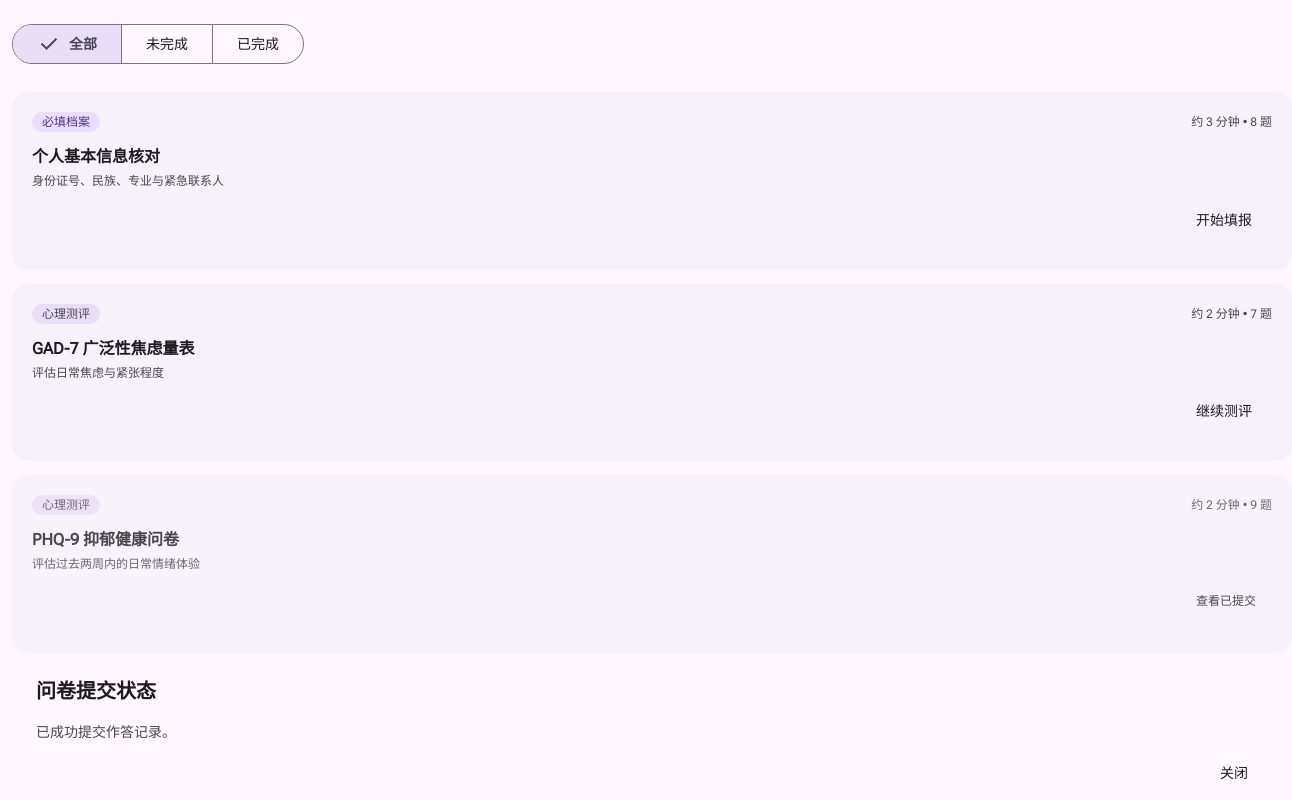
Test: AssessmentsPage › filters list correctly between 全部, 未完成 (NOT_STARTED + IN_PROGRESS), and 已完成 (COMPLETED)
Check: the heading "个人基本信息核对" is shown, box top-left (32, 147), bottom-right (160, 166)
Check: the heading "GAD-7 广泛性焦虑量表" is shown, box top-left (32, 338), bottom-right (194, 358)
Click '未完成': should show NOT_STARTED and IN_PROGRESS, but hide COMPLETED
Click the radio button "未完成".
click(168, 44)  # box top-left (122, 25), bottom-right (213, 63)
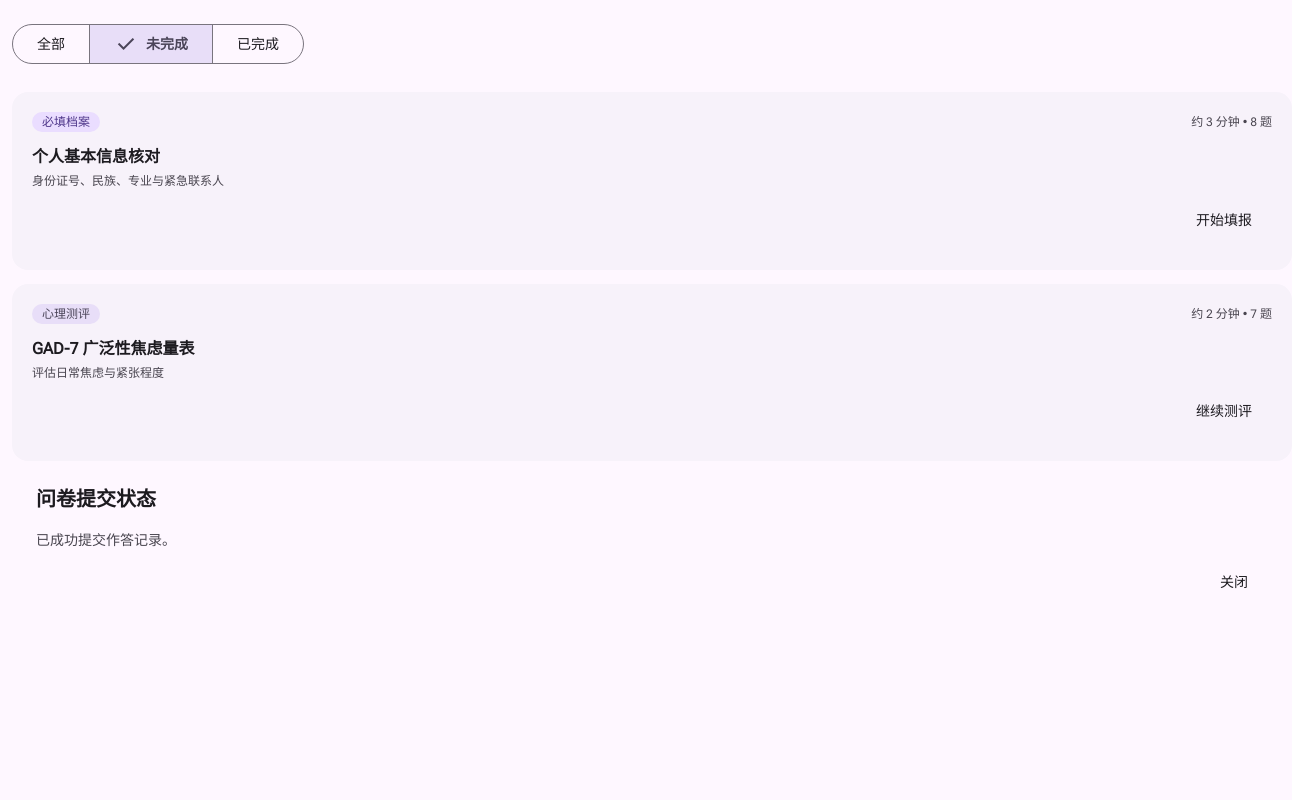
Check: the heading "个人基本信息核对" is shown, box top-left (32, 147), bottom-right (160, 166)
Check: the heading "PHQ-9 抑郁健康问卷" is gone
Click '已完成': should show only COMPLETED
Click the radio button "已完成".
click(258, 44)  # box top-left (213, 25), bottom-right (303, 63)
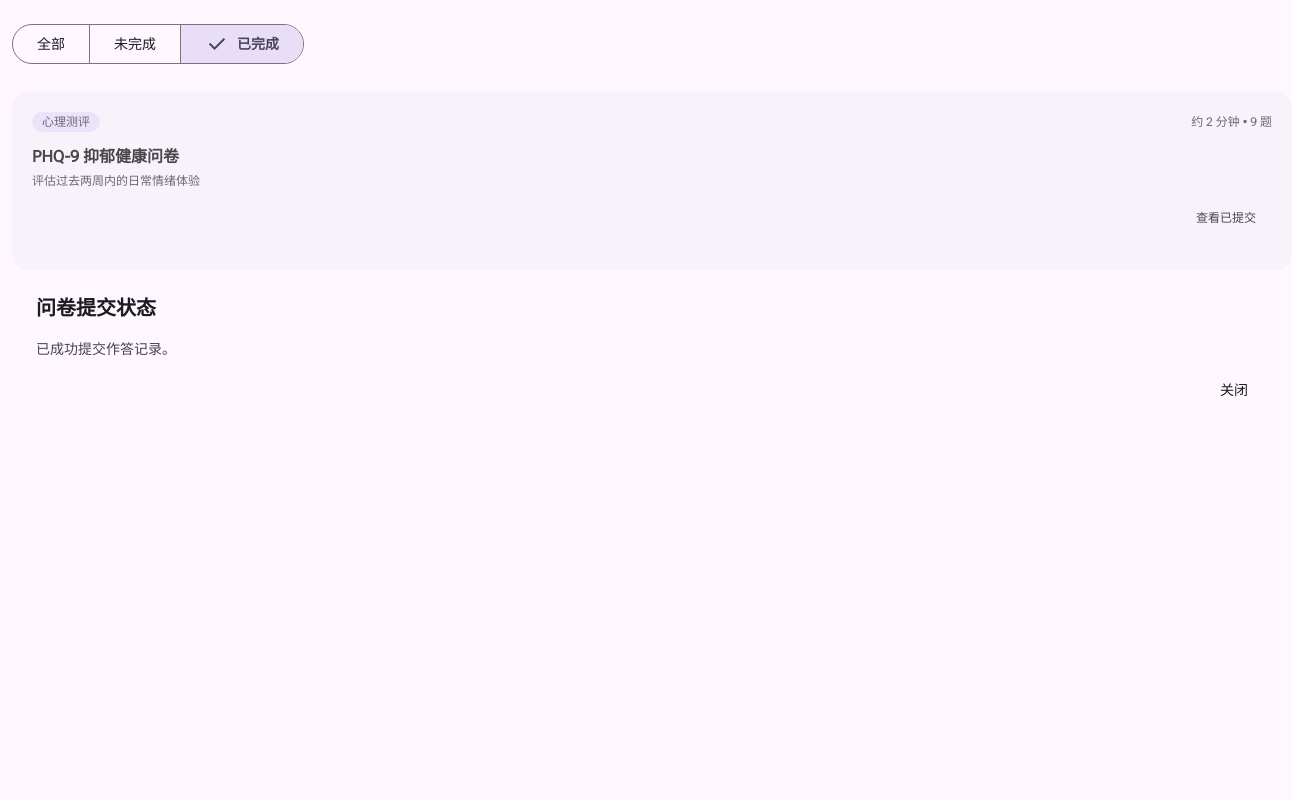
Check: the heading "个人基本信息核对" is gone
Check: the heading "GAD-7 广泛性焦虑量表" is gone
Check: the heading "PHQ-9 抑郁健康问卷" is shown, box top-left (32, 147), bottom-right (179, 166)
Click '全部': restores all
Click the radio button "全部".
click(52, 44)  # box top-left (13, 25), bottom-right (90, 63)
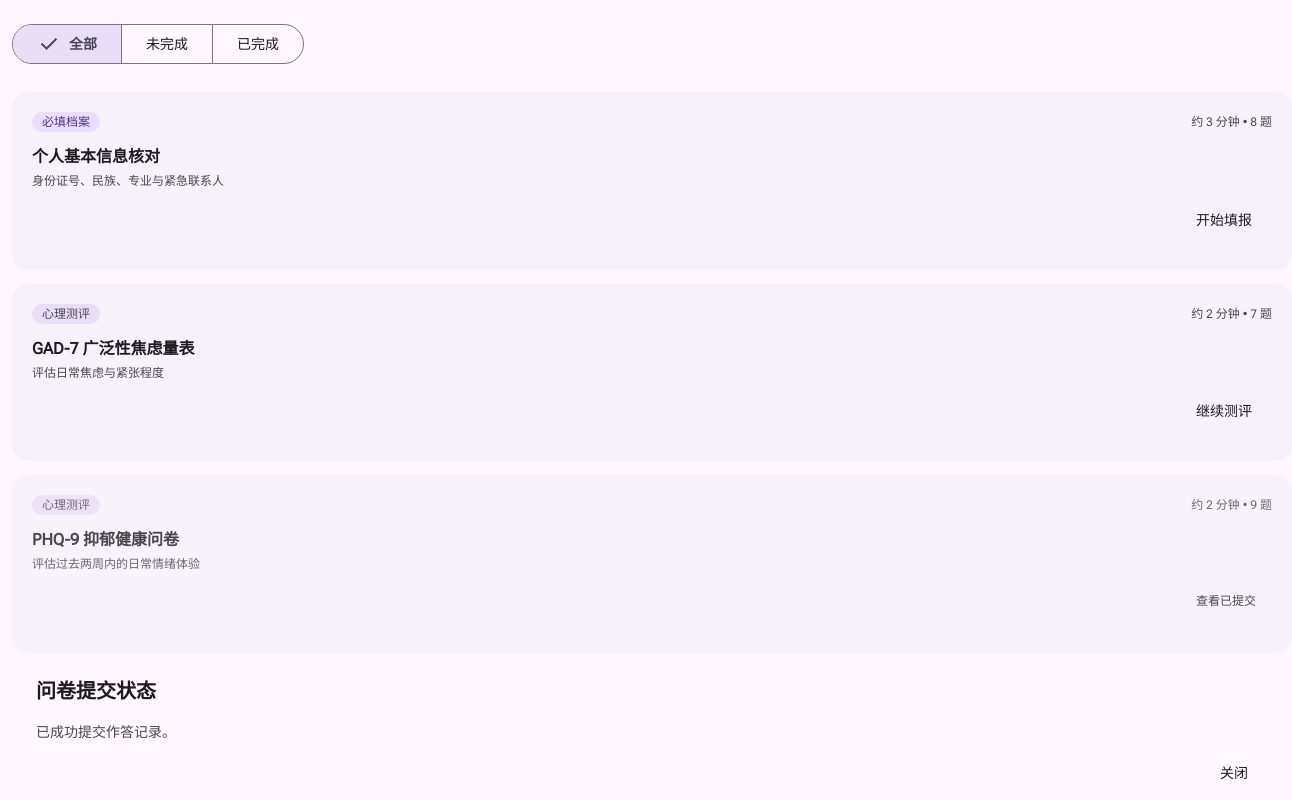
Check: the heading "PHQ-9 抑郁健康问卷" is shown, box top-left (32, 530), bottom-right (179, 549)
Check: the heading "个人基本信息核对" is shown, box top-left (32, 147), bottom-right (160, 166)
Check: the heading "GAD-7 广泛性焦虑量表" is shown, box top-left (32, 338), bottom-right (194, 358)
